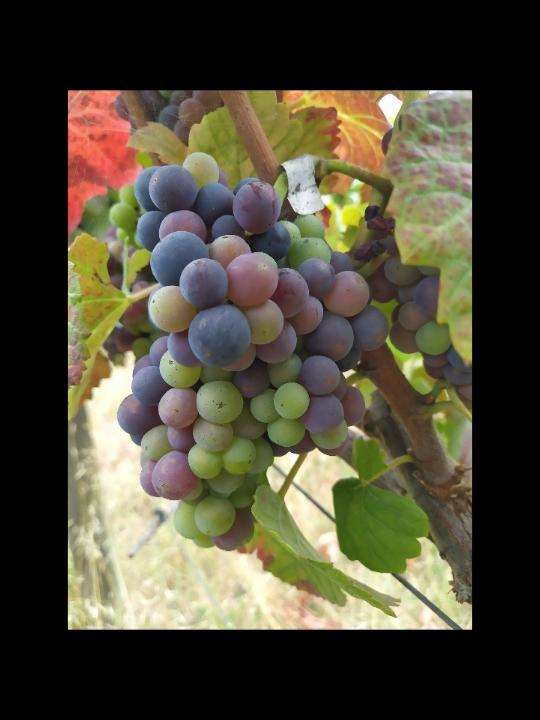grape: (114, 150, 393, 552)
